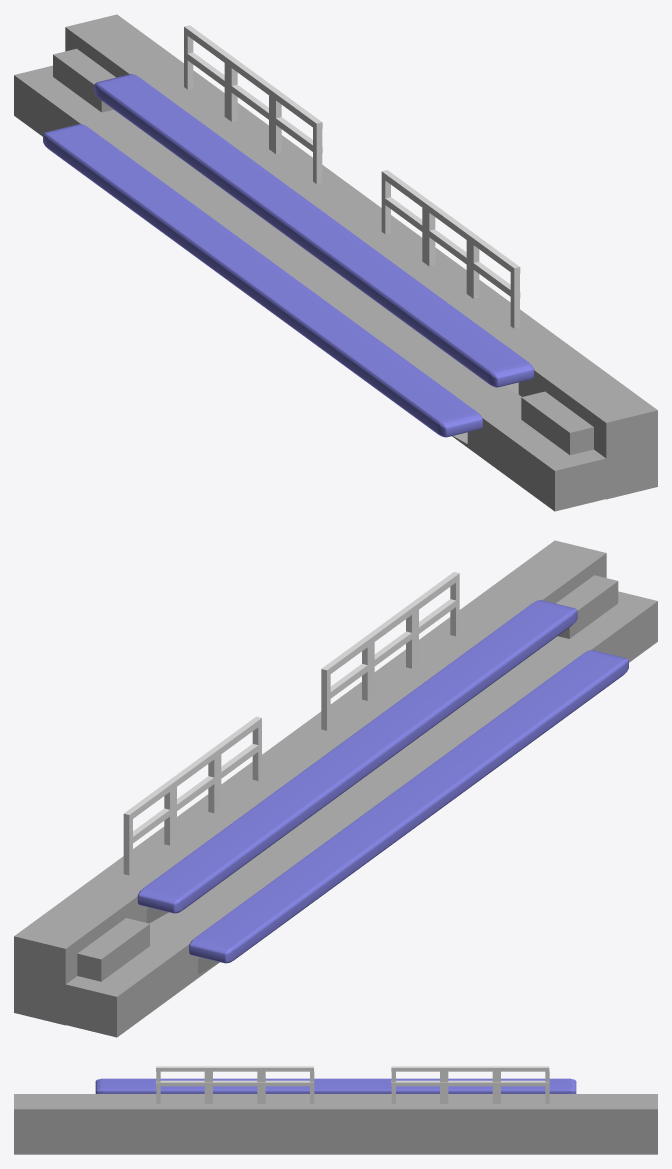
File: Audience_Seats.fbx
3 renders of one model, top to bottom at view 1: azimuth 30°, elevation 25°; view 2: azimuth 150°, elevation 25°; view 3: azimuth 270°, elevation 25°, orthographic. The views are drawn at different scales.
Visible parts, largest first — view 1: polySurface55; view 2: polySurface55; view 3: polySurface55.
Part boxes in pixels (x1,y1,x2,y2): polySurface55: [14, 14, 657, 511]; polySurface55: [14, 540, 657, 1037]; polySurface55: [14, 1066, 657, 1154].
Size of the model in its own units: 2.81 by 2.53 by 18.08.
